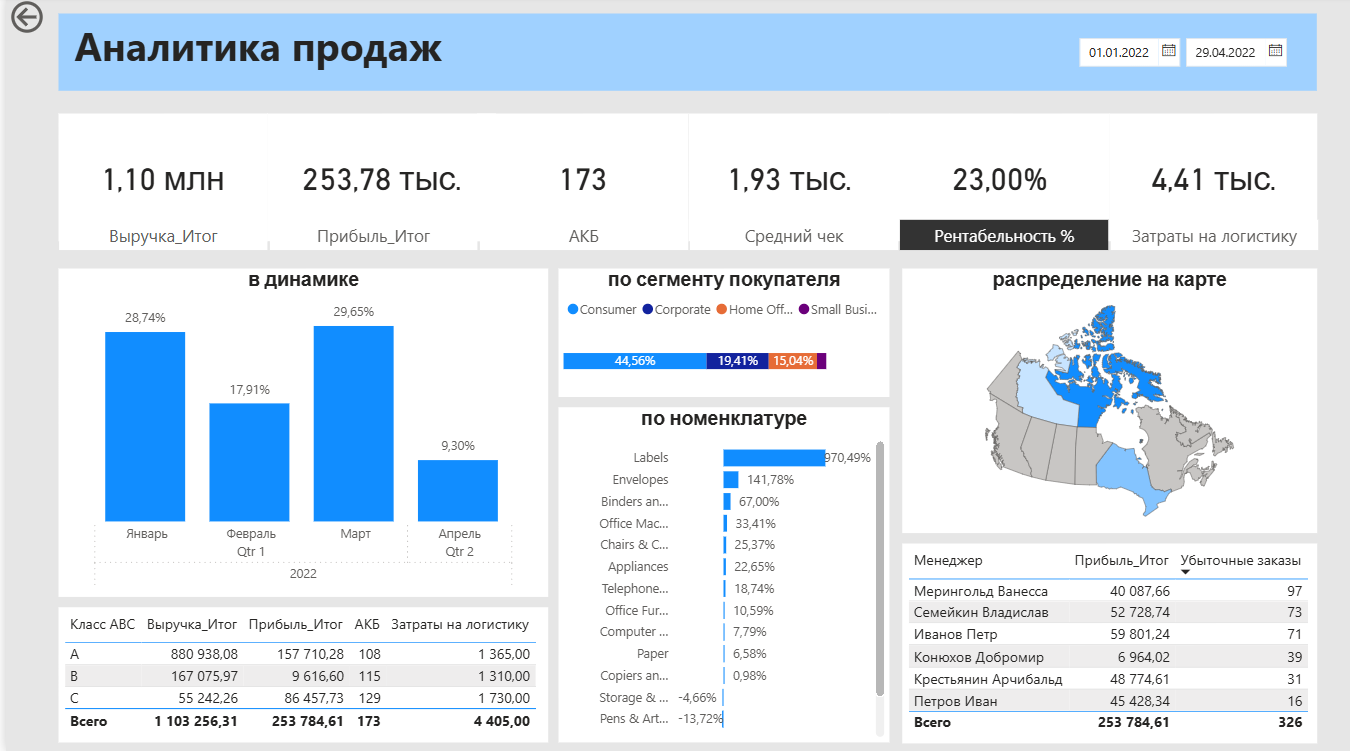

Layout of this report page (visuals, bound fields, positions):
{"tool":"powerbi","page":{"name":"Страница 1","canvas":[1280,720],"ordinal":0},"visuals":[{"type":"card","fields":{"Values":["Продажи.Выручка_Итог"]},"box":[50,111.9,198.8,121.4],"z":0},{"type":"card","fields":{"Values":["Продажи.Прибыль_Итог"]},"box":[248.8,111.9,217.9,121.4],"z":1000},{"type":"card","fields":{"Values":["Продажи.АКБ"]},"box":[448.8,111.9,201.2,121.4],"z":2000},{"type":"card","fields":{"Values":["Продажи.Средний чек"]},"box":[650,111.9,191.7,121.4],"z":3000},{"type":"card","fields":{"Values":["Продажи.Рентабельность %"]},"box":[841.7,111.9,209.5,121.4],"z":4000},{"type":"card","fields":{"Values":["Продажи.Затраты на логистику"]},"box":[1051.2,111.9,197.6,121.4],"z":5000},{"type":"columnChart","title":"в динамике","fields":{"Y":["Продажи.Рентабельность %"],"Category":["Календарь.Date.Изменение.Иерархия дат.Год","Календарь.Date.Изменение.Иерархия дат.Квартал","Календарь.Date.Изменение.Иерархия дат.Месяц"]},"box":[50,259.5,466.7,313.1],"z":6000},{"type":"barChart","title":"по сегменту покупателя","fields":{"Y":["Продажи.Рентабельность %"],"Series":["СПР_покупатели.Сегмент покупателя"]},"box":[526.2,259.5,315.5,122.6],"z":7000},{"type":"clusteredBarChart","title":"по номенклатуре","fields":{"Y":["Продажи.Рентабельность %"],"Category":["СПР_продукты.Категория продукта","СПР_продукты.Подкатегория продукта","СПР_продукты.Продукт"]},"box":[526.2,391.7,315.5,319],"z":8000},{"type":"actionButton","box":[0,0,100,40],"z":9000},{"type":"shapeMap","title":"распределение на карте","fields":{"Value":["Продажи.Рентабельность %"],"Category":["Продажи.Регион"]},"box":[853.6,259.5,395.2,252.4],"z":10000},{"type":"textbox","box":[50,16.2,1198.8,73.8],"z":11000},{"type":"slicer","fields":{"Values":["Календарь.Date"]},"box":[1010,30,226.2,47.5],"z":12000},{"type":"tableEx","fields":{"Values":["СПР_Менеджеры.Менеджер","Продажи.Прибыль_Итог","Продажи.Убыточные заказы"]},"box":[853.8,521.2,395,190],"z":13000},{"type":"tableEx","fields":{"Values":["СПР_продукты.Класс ABC","Продажи.Выручка_Итог","Продажи.Прибыль_Итог","Продажи.АКБ","Продажи.Затраты на логистику"]},"box":[50,582.5,466.2,128.8],"z":14000},{"type":"slicer","fields":{"Values":["Выбор метки.Выбор метки"]},"box":[29.8,206,1239.3,36.9],"z":15000}]}

Visuals, with their boxes in screenshot pixels (x1, y1, x2, y2), scaled from the page's 1280x720 canvas onto the 1350x751 screenshot:
card - Продажи.Выручка_Итог: (53,117,262,243)
card - Продажи.Прибыль_Итог: (262,117,492,243)
card - Продажи.АКБ: (473,117,686,243)
card - Продажи.Средний чек: (686,117,888,243)
card - Продажи.Рентабельность %: (888,117,1109,243)
card - Продажи.Затраты на логистику: (1109,117,1317,243)
"в динамике" columnChart: (53,271,545,597)
"по сегменту покупателя" barChart: (555,271,888,399)
"по номенклатуре" clusteredBarChart: (555,409,888,741)
actionButton: (0,0,105,42)
"распределение на карте" shapeMap: (900,271,1317,534)
textbox: (53,17,1317,94)
slicer - Календарь.Date: (1065,31,1304,81)
tableEx - СПР_Менеджеры.Менеджер x Продажи.Прибыль_Итог: (900,544,1317,742)
tableEx - СПР_продукты.Класс ABC x Продажи.Выручка_Итог: (53,608,544,742)
slicer - Выбор метки.Выбор метки: (31,215,1339,253)
